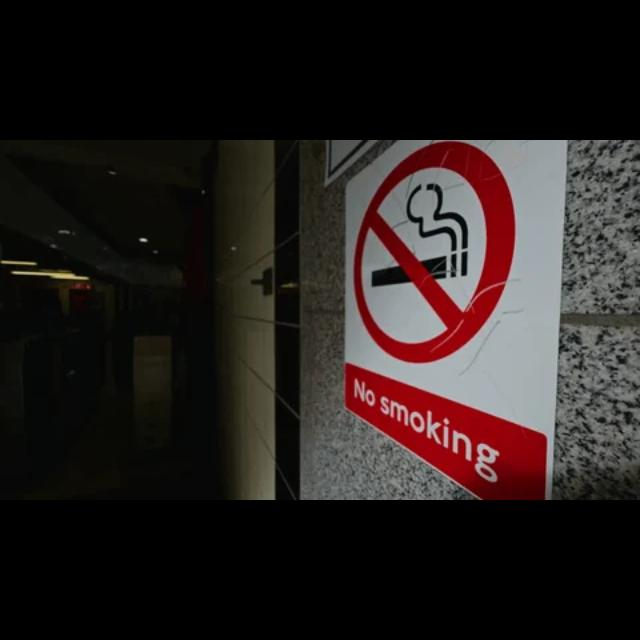cam hut thuoc: (344, 140, 565, 497)
